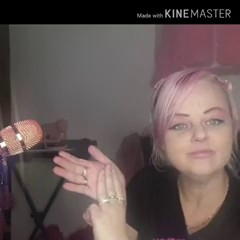M: (45, 142, 137, 237)
